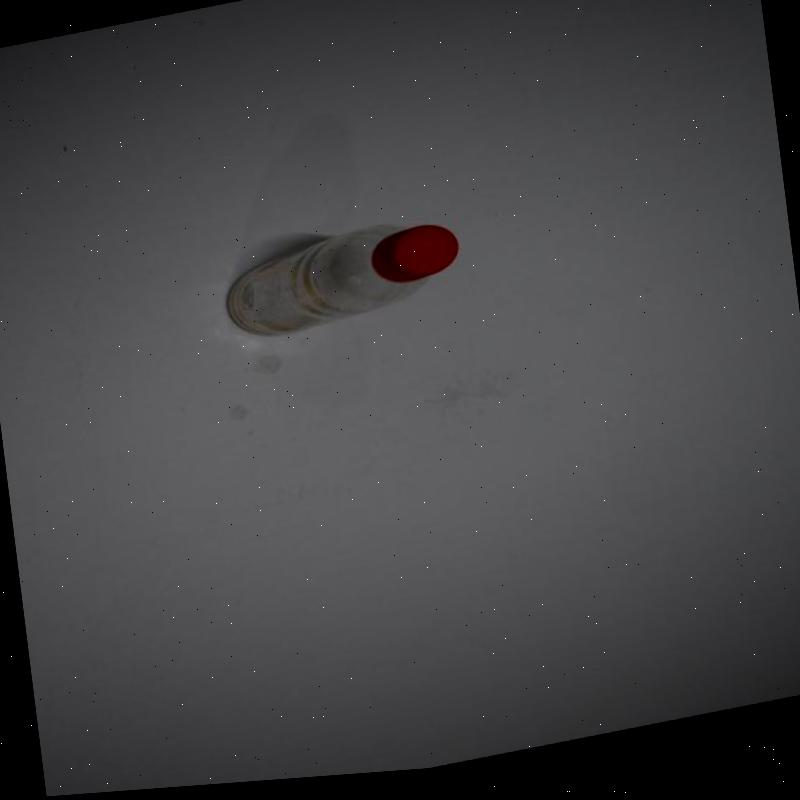botella: (218, 216, 465, 348)
